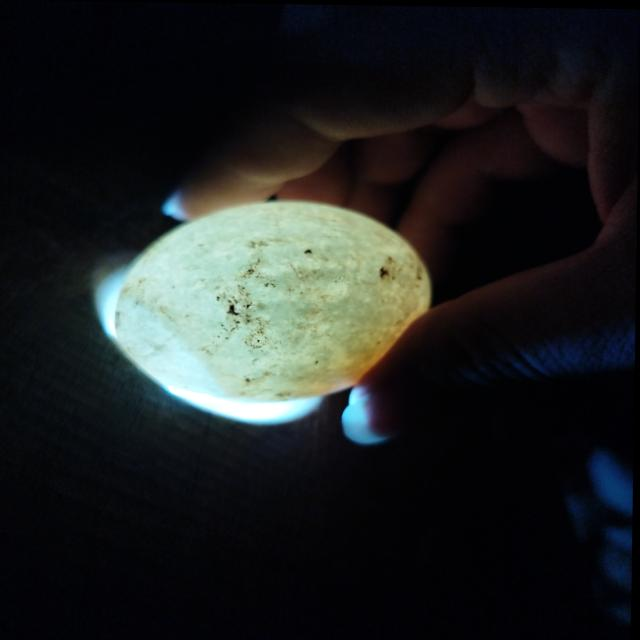Camara de Ar: (118, 298, 221, 394)
